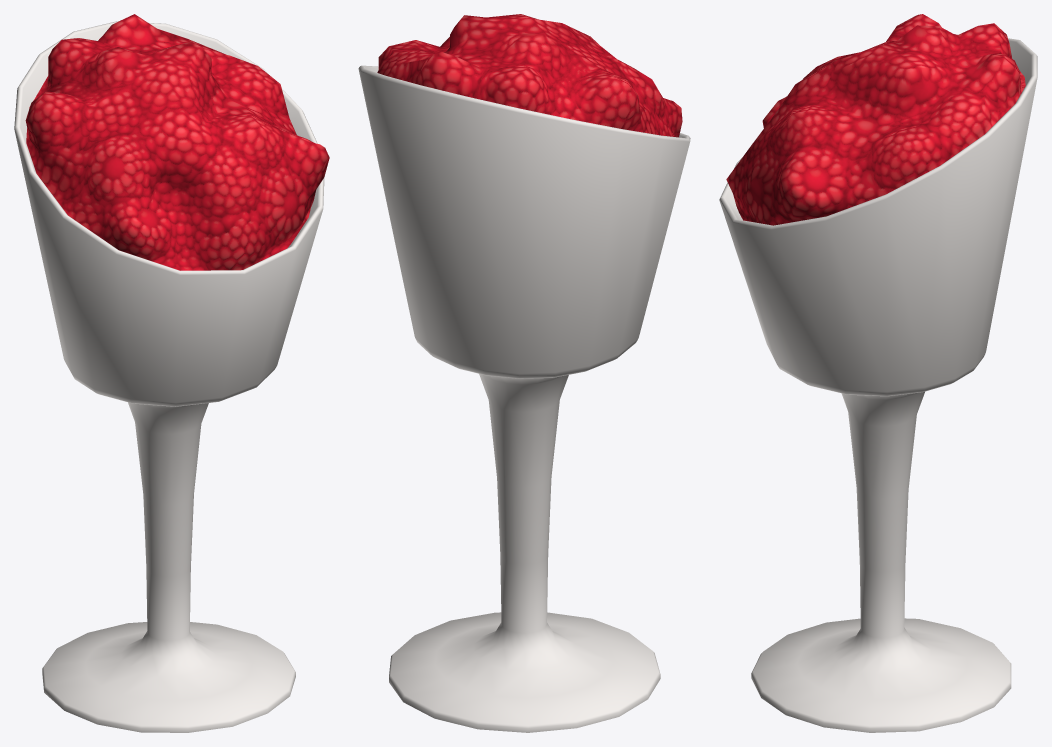
The model's file is BuffetBarries01_4.FBX.
3 views of the same model, side by side, from view 1: azimuth 30°, elevation 25°; view 2: azimuth 150°, elevation 25°; view 3: azimuth 270°, elevation 25° (orthographic). The views are drawn at different scales.
Visible parts, largest first — view 1: BuffetBarries01_4; view 2: BuffetBarries01_4; view 3: BuffetBarries01_4.
Boxes of the visible parts, bbox=[...] form: BuffetBarries01_4: bbox=[14, 14, 329, 732]; BuffetBarries01_4: bbox=[358, 14, 690, 732]; BuffetBarries01_4: bbox=[719, 14, 1037, 732].
Size of what is drawn, in the model's own units: 0.1475 by 0.3213 by 0.1461.
